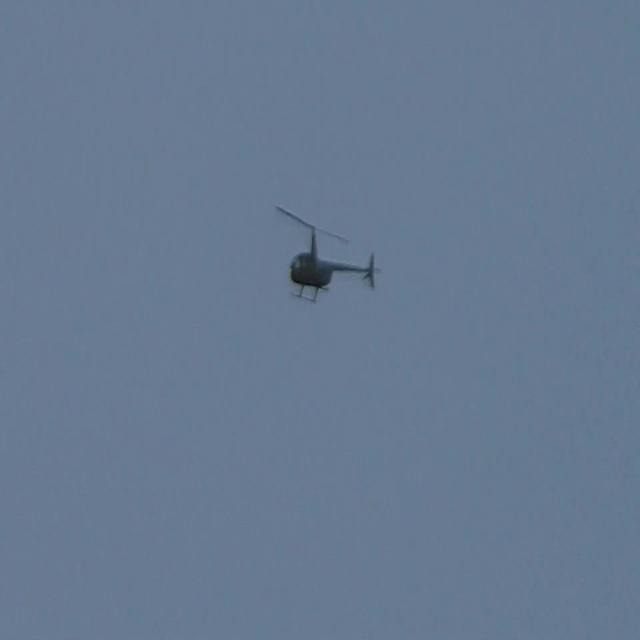CIV_HELO: (288, 226, 382, 304)
